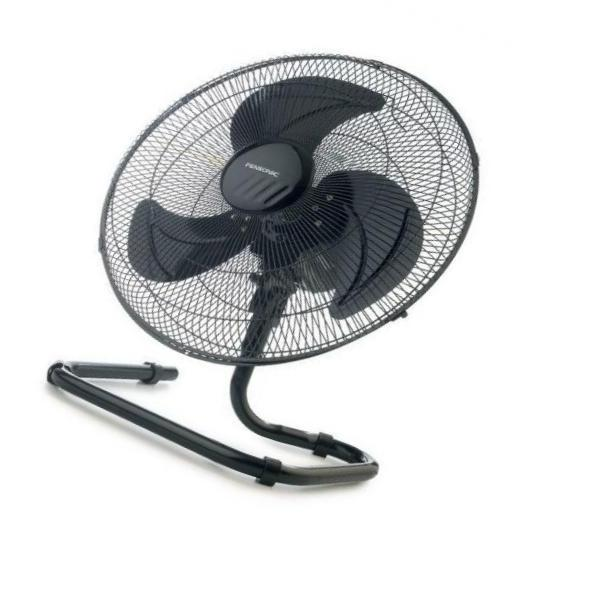fan: (26, 34, 576, 587)
